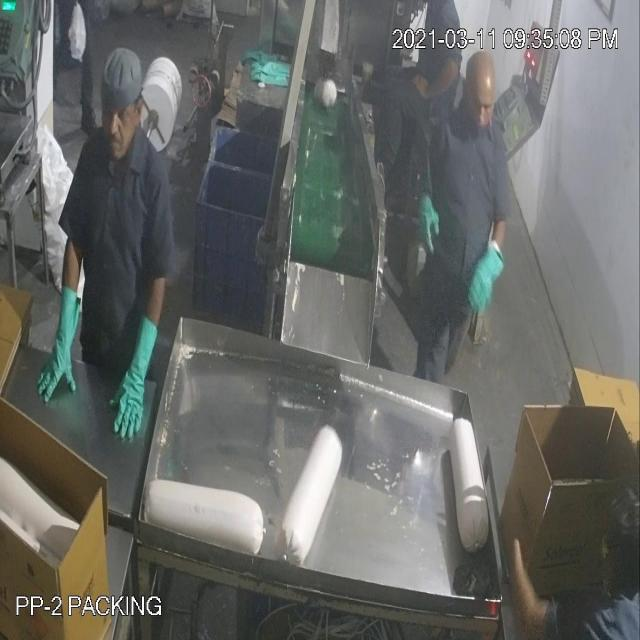Gloves: (40, 82, 478, 374)
